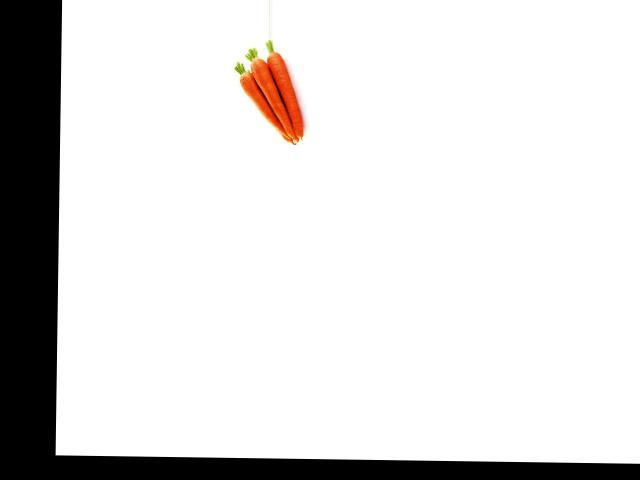carrot: (265, 36, 320, 132)
